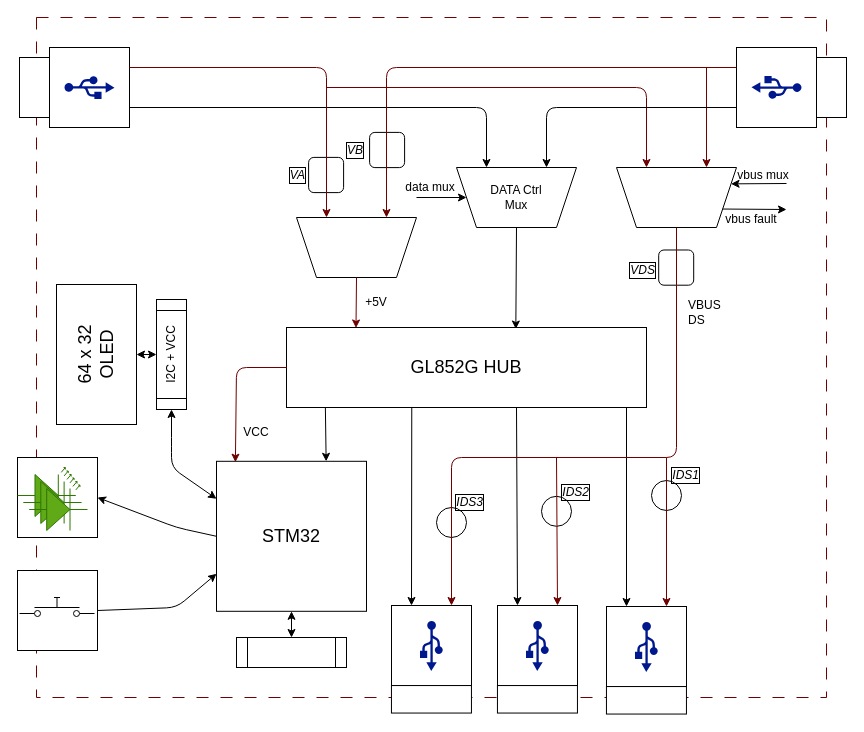
The diagram is 864 pixels wide and 732 high, and some of its shapes have lost their labels. The shapes that lost their labels are listed below. From the top down, each one's centre as x and y in pixels, then its label:
At point (676, 197): "VBUS Ctrl Mux".
At point (356, 247): "VBUS Auto Mux".
At point (291, 652): "DEBUG".
